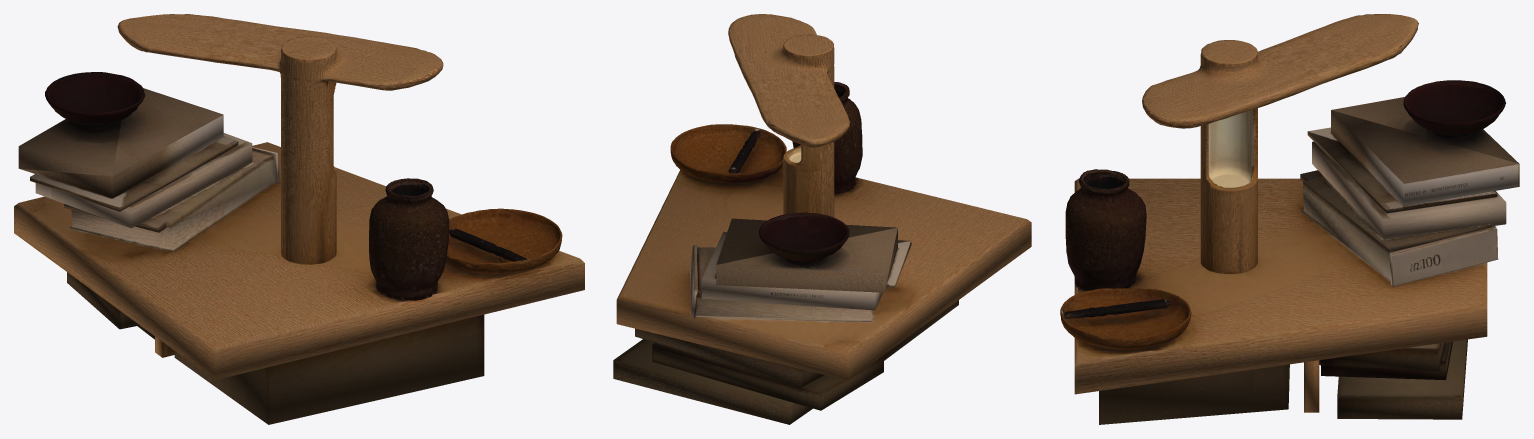
Rendered from desk_lamp_scene.glb.
3 renders of one model, left to right at view 1: azimuth 30°, elevation 25°; view 2: azimuth 150°, elevation 25°; view 3: azimuth 270°, elevation 25°, orthographic. The views are drawn at different scales.
Parts seen in each view (by area): view 1: tripo_part_10, tripo_part_8, tripo_part_18, tripo_part_1, tripo_part_19, tripo_part_9, tripo_part_3, tripo_part_20, tripo_part_11, tripo_part_2, tripo_part_17, tripo_part_12 (+2 smaller); view 2: tripo_part_10, tripo_part_8, tripo_part_20, tripo_part_15, tripo_part_3, tripo_part_12, tripo_part_9, tripo_part_11, tripo_part_2, tripo_part_14, tripo_part_1, tripo_part_19 (+3 smaller); view 3: tripo_part_10, tripo_part_8, tripo_part_19, tripo_part_9, tripo_part_1, tripo_part_18, tripo_part_15, tripo_part_3, tripo_part_11, tripo_part_2, tripo_part_20, tripo_part_17 (+4 smaller).
Boxes of the visible parts, x1=… form: tripo_part_10: x1=14, y1=142, x2=584, y2=379; tripo_part_8: x1=117, y1=14, x2=443, y2=264; tripo_part_18: x1=174, y1=314, x2=484, y2=424; tripo_part_1: x1=369, y1=178, x2=449, y2=300; tripo_part_19: x1=19, y1=88, x2=223, y2=198; tripo_part_9: x1=70, y1=147, x2=279, y2=251; tripo_part_3: x1=446, y1=208, x2=562, y2=273; tripo_part_20: x1=18, y1=119, x2=121, y2=176; tripo_part_11: x1=35, y1=133, x2=252, y2=228; tripo_part_2: x1=45, y1=72, x2=145, y2=126; tripo_part_17: x1=35, y1=136, x2=238, y2=211; tripo_part_12: x1=67, y1=272, x2=139, y2=329; tripo_part_10: x1=616, y1=165, x2=1031, y2=380; tripo_part_8: x1=728, y1=14, x2=849, y2=217; tripo_part_20: x1=716, y1=227, x2=897, y2=292; tripo_part_15: x1=613, y1=339, x2=812, y2=424; tripo_part_3: x1=670, y1=124, x2=786, y2=183; tripo_part_12: x1=652, y1=343, x2=883, y2=410; tripo_part_9: x1=690, y1=245, x2=871, y2=321; tripo_part_11: x1=701, y1=231, x2=882, y2=310; tripo_part_2: x1=759, y1=212, x2=849, y2=262; tripo_part_14: x1=635, y1=328, x2=823, y2=387; tripo_part_1: x1=792, y1=82, x2=862, y2=193; tripo_part_19: x1=716, y1=218, x2=897, y2=289; tripo_part_10: x1=1074, y1=178, x2=1487, y2=394; tripo_part_8: x1=1142, y1=14, x2=1418, y2=273; tripo_part_19: x1=1331, y1=110, x2=1519, y2=206; tripo_part_9: x1=1301, y1=176, x2=1498, y2=286; tripo_part_1: x1=1065, y1=169, x2=1146, y2=290; tripo_part_18: x1=1099, y1=364, x2=1289, y2=424; tripo_part_15: x1=1337, y1=339, x2=1467, y2=419; tripo_part_3: x1=1060, y1=288, x2=1191, y2=350; tripo_part_11: x1=1312, y1=141, x2=1506, y2=239; tripo_part_2: x1=1403, y1=80, x2=1505, y2=136; tripo_part_20: x1=1331, y1=97, x2=1519, y2=163; tripo_part_17: x1=1307, y1=131, x2=1497, y2=213.
Bounding box in the file's own units: 1 × 0.7651 × 1.
21 materials, 21 textured.
